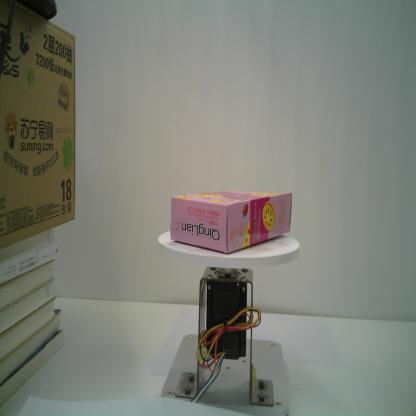Dessert: (168, 187, 294, 257)
